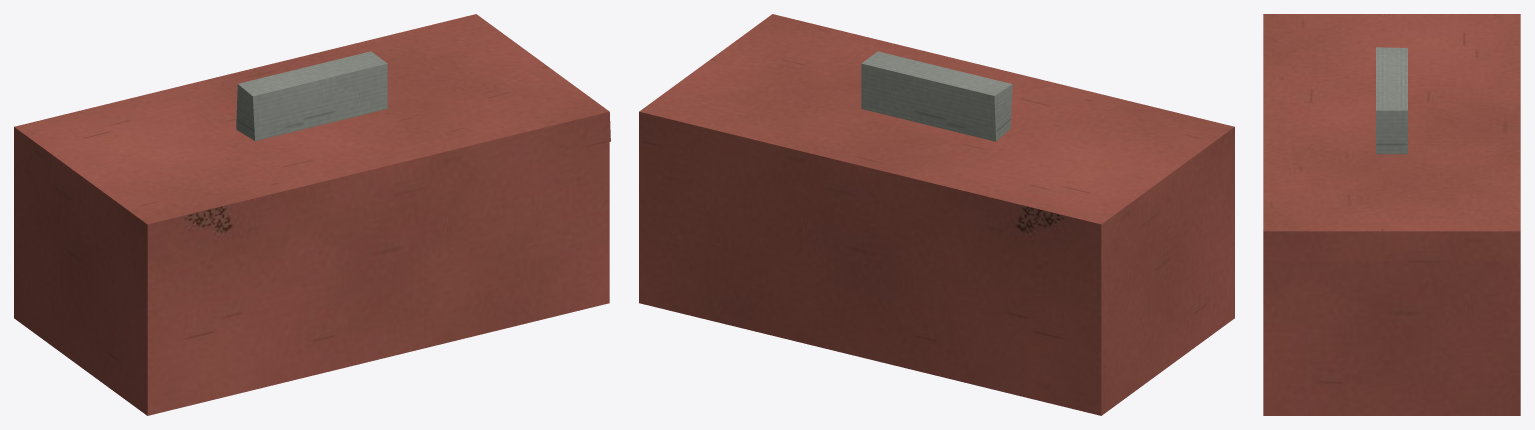
Rendered from toolbox_v3.glb.
3 renders of one model, left to right at view 1: azimuth 30°, elevation 25°; view 2: azimuth 150°, elevation 25°; view 3: azimuth 270°, elevation 25°, orthographic. The views are drawn at different scales.
Visible parts, largest first — view 1: Variant_toolbox_3; view 2: Variant_toolbox_3; view 3: Variant_toolbox_3.
Part boxes in pixels (left/top/right/bottom): Variant_toolbox_3: left=14, top=14, right=610, bottom=415; Variant_toolbox_3: left=639, top=14, right=1234, bottom=415; Variant_toolbox_3: left=1263, top=14, right=1520, bottom=415.
Size of the model in its own units: 0.4812 by 0.235 by 0.24.
Materials: 2 (2 with a texture image).
